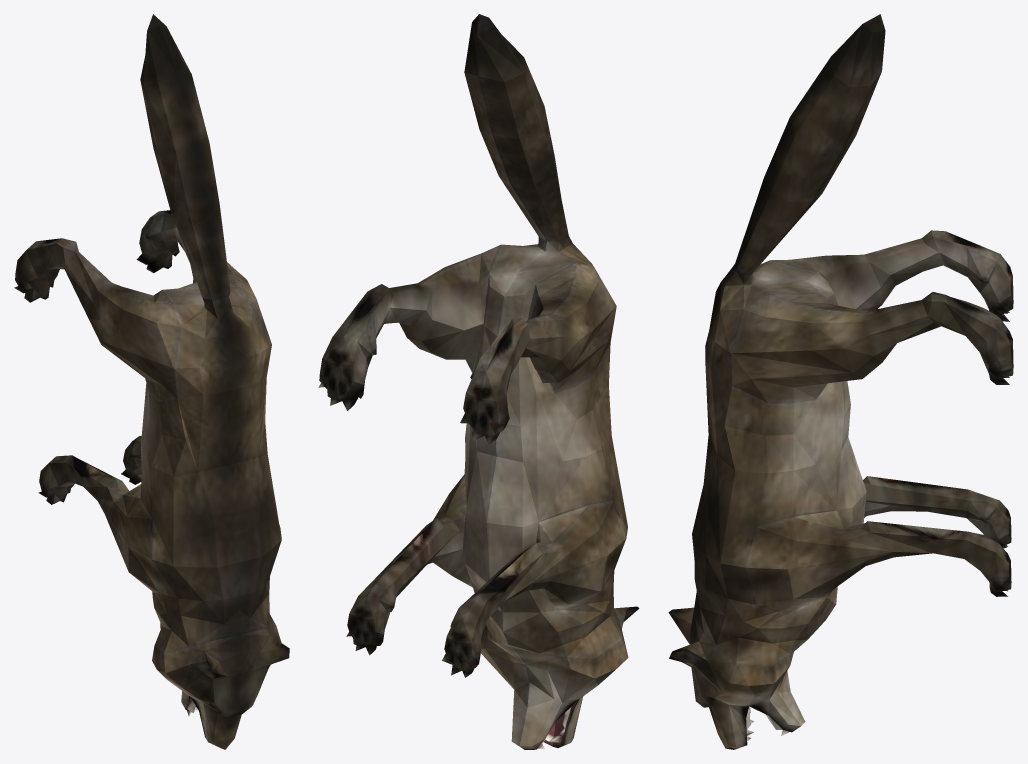
Rendered from wolf.glb.
3 views of the same model, side by side, from view 1: azimuth 30°, elevation 25°; view 2: azimuth 150°, elevation 25°; view 3: azimuth 270°, elevation 25° (orthographic). The views are drawn at different scales.
Visible parts, largest first — view 1: wolf.obj; view 2: wolf.obj; view 3: wolf.obj.
Part boxes in pixels (x1,y1,x2,y2): wolf.obj: (14, 14, 289, 749); wolf.obj: (318, 14, 639, 749); wolf.obj: (668, 14, 1013, 749).
Bounding box in the file's own units: 0.2418 × 1 × 0.425.
1 material, 1 textured.
